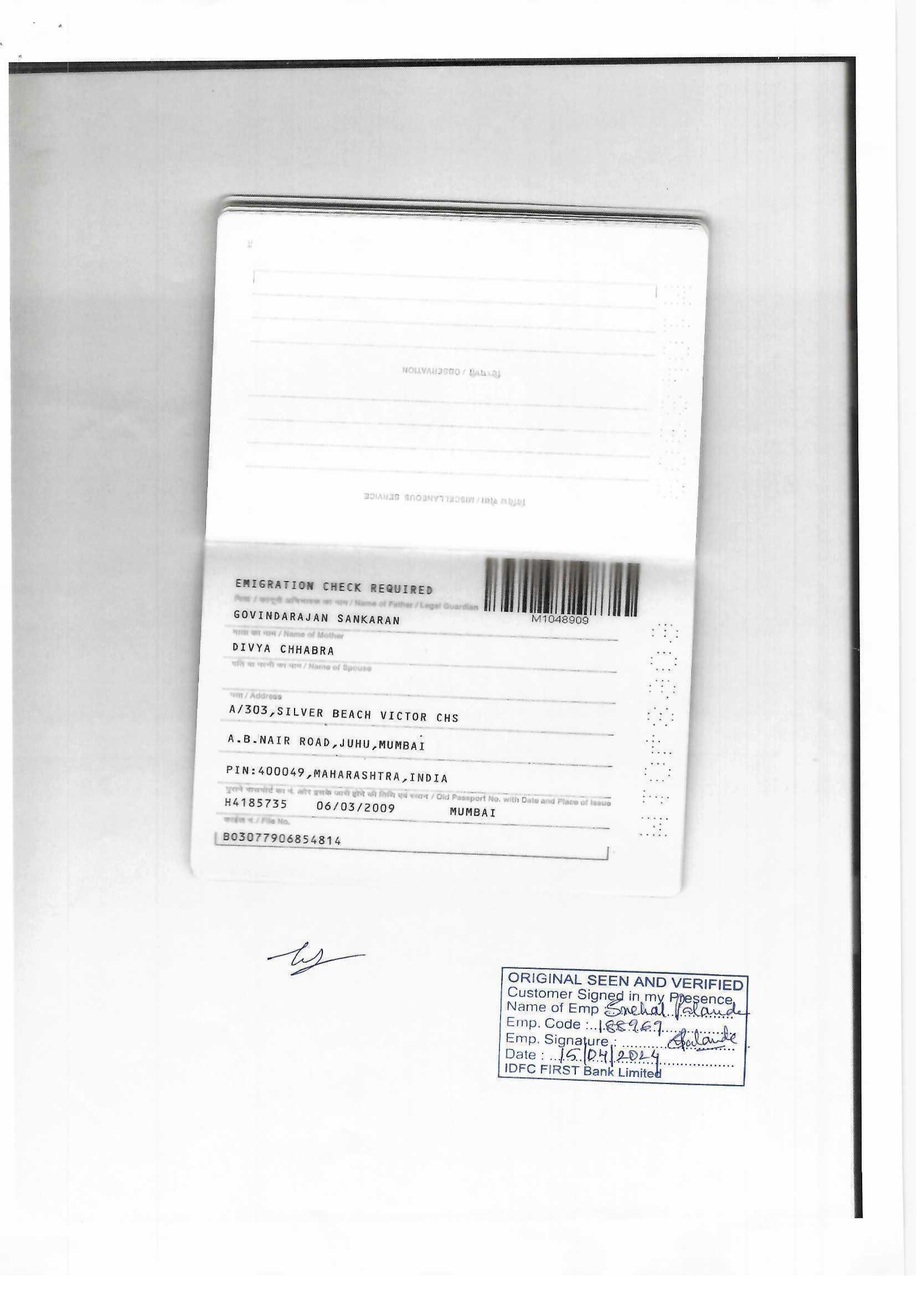File_no: (218, 828, 353, 853)
address: (213, 686, 474, 786)
father_name: (225, 607, 404, 633)
mother_name: (231, 639, 342, 660)
old_passport_details: (218, 795, 508, 820)
passport_no: (525, 612, 596, 632)
